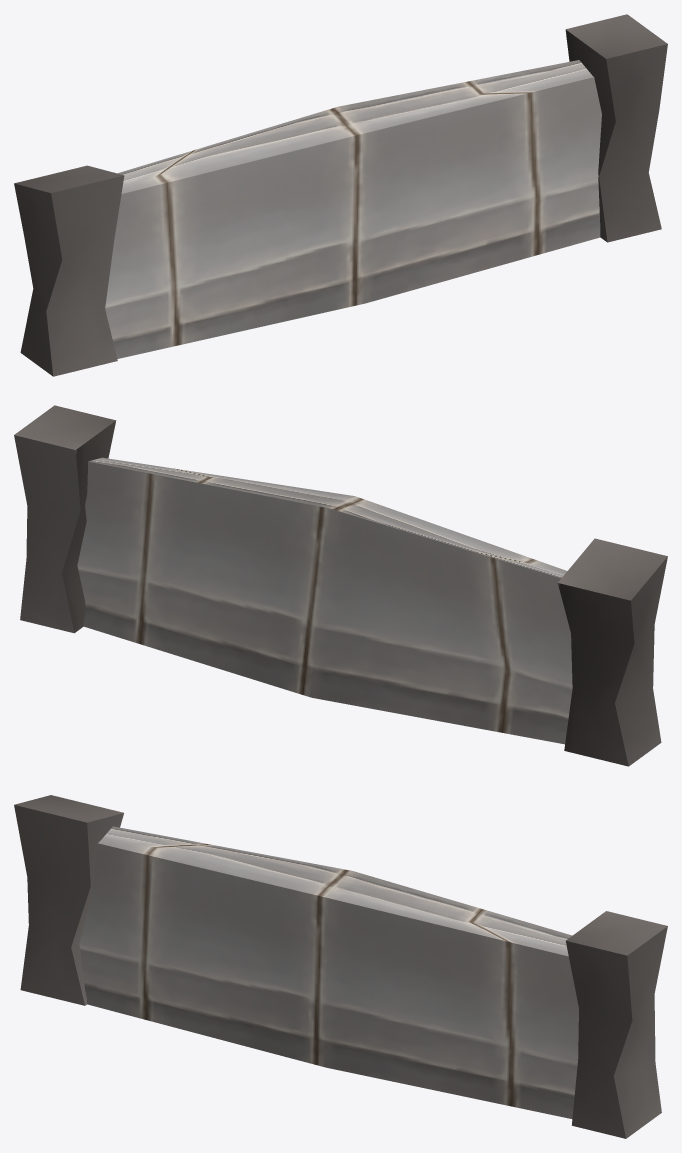
Rendered from Dwarf_Village_Props_01.FBX.
3 views of the same model, one above another, from view 1: azimuth 30°, elevation 25°; view 2: azimuth 150°, elevation 25°; view 3: azimuth 330°, elevation 25° (orthographic).
Parts seen in each view (by area): view 1: Dwarf_Village_Props_01; view 2: Dwarf_Village_Props_01; view 3: Dwarf_Village_Props_01.
Part boxes in pixels (<box>): Dwarf_Village_Props_01: <box>14,14,667,376</box>; Dwarf_Village_Props_01: <box>14,405,667,766</box>; Dwarf_Village_Props_01: <box>14,795,667,1138</box>.
Bounding box in the file's own units: 708 × 205 × 89.54.
